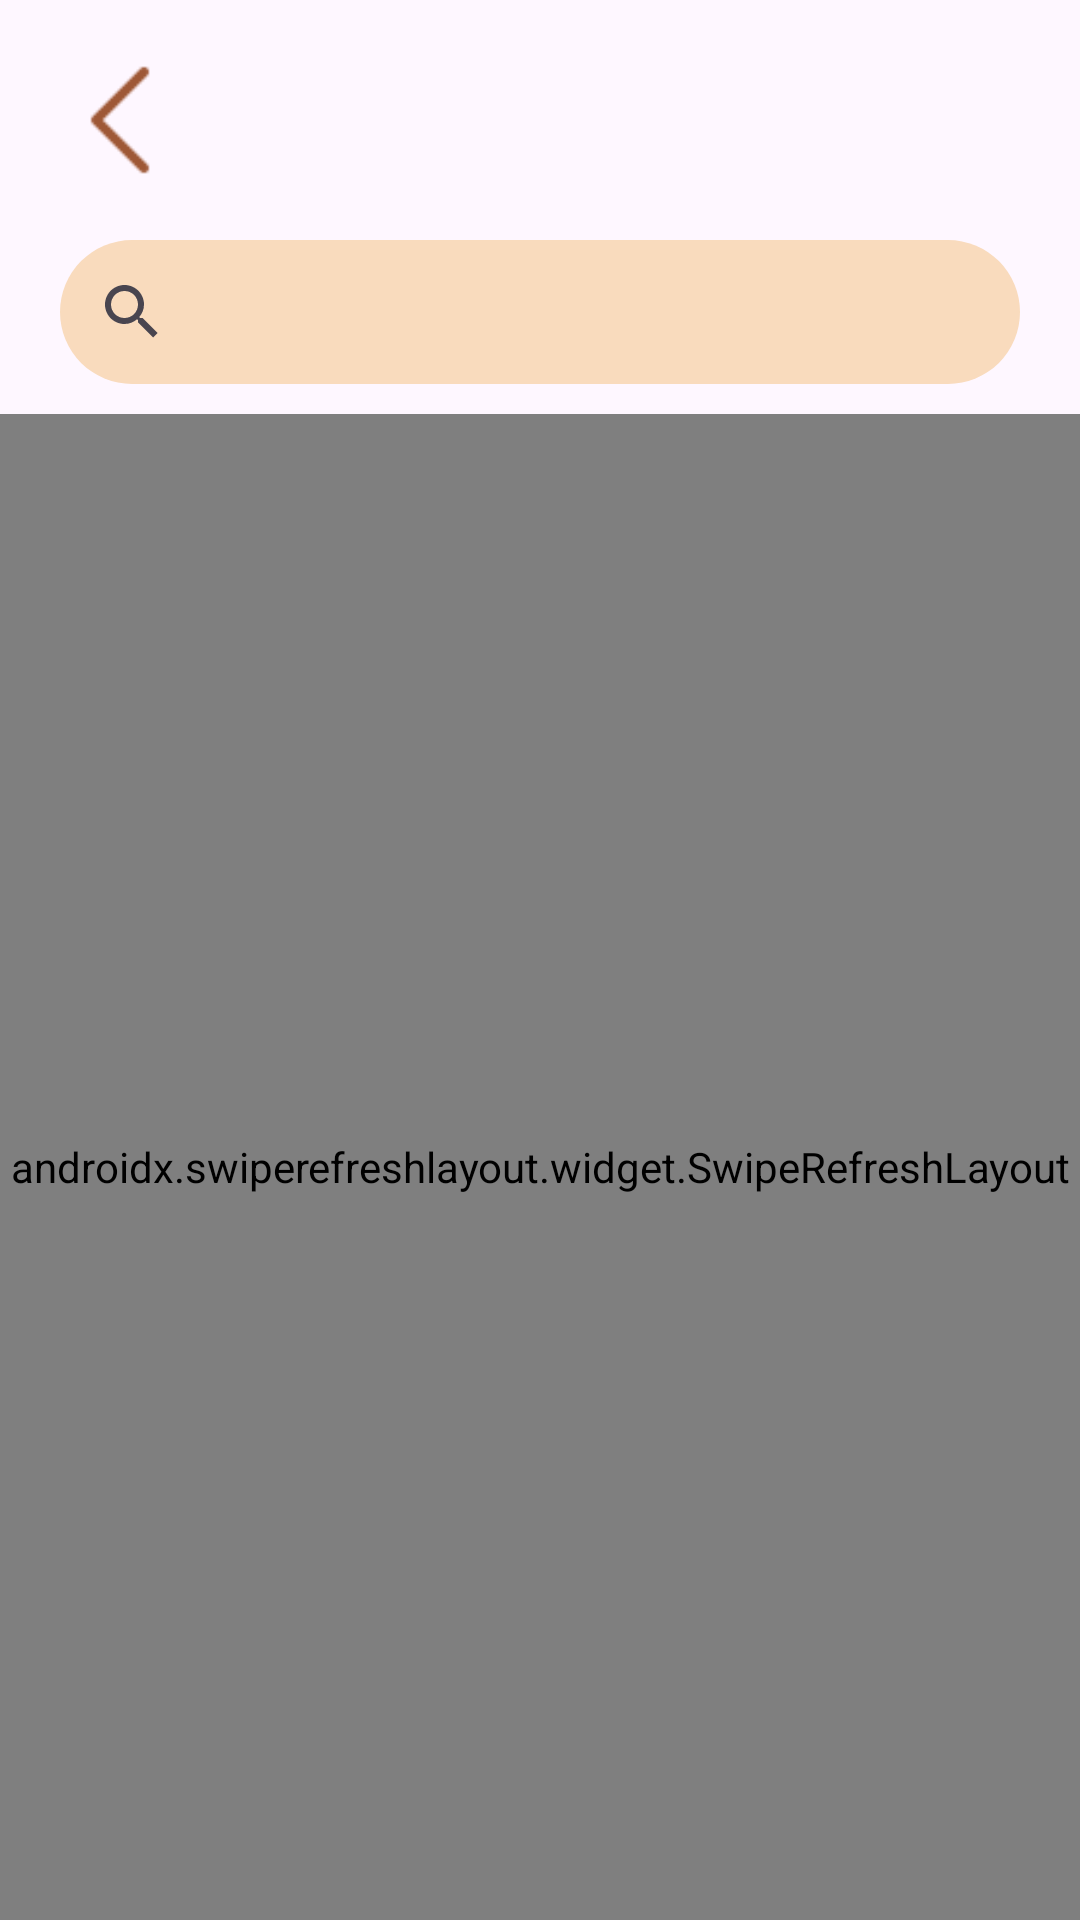

Screen size 1080px x 1920px. Icon name, then its center in pixels as (x=x, y=y):
backk: (x=120, y=120)
